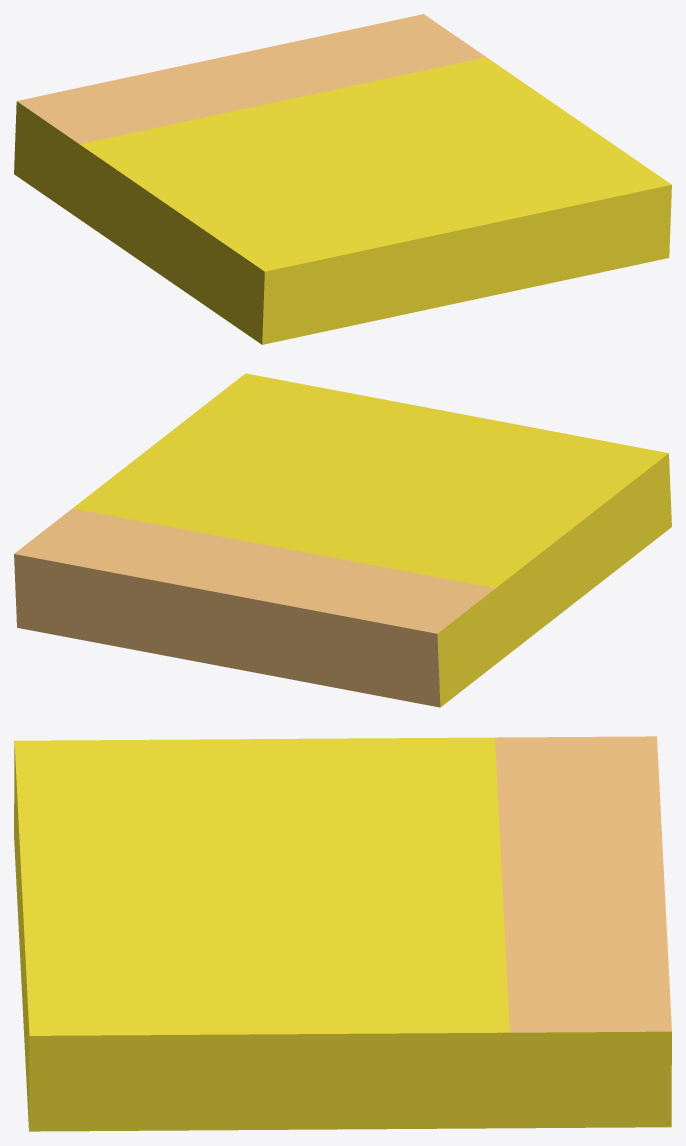
File: postit.glb
The picture shows the model from 3 angles, top to bottom: view 1: azimuth 30°, elevation 25°; view 2: azimuth 150°, elevation 25°; view 3: azimuth 270°, elevation 25°; orthographic projection. The views are drawn at different scales.
Parts seen in each view (by area): view 1: group447470731; view 2: group447470731; view 3: group447470731.
Boxes of the visible parts, x1,y1,x2,y2 form: group447470731: [14, 14, 671, 344]; group447470731: [14, 373, 671, 707]; group447470731: [14, 736, 671, 1131].
Bounding box in the file's own units: 0.1235 × 0.0254 × 0.1229.
